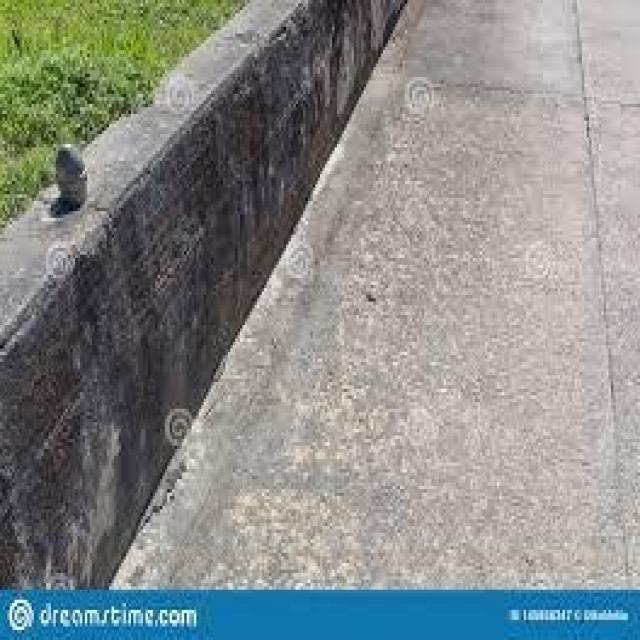curb: (1, 183, 281, 392), (5, 346, 214, 584), (108, 116, 362, 271), (188, 12, 410, 151)
